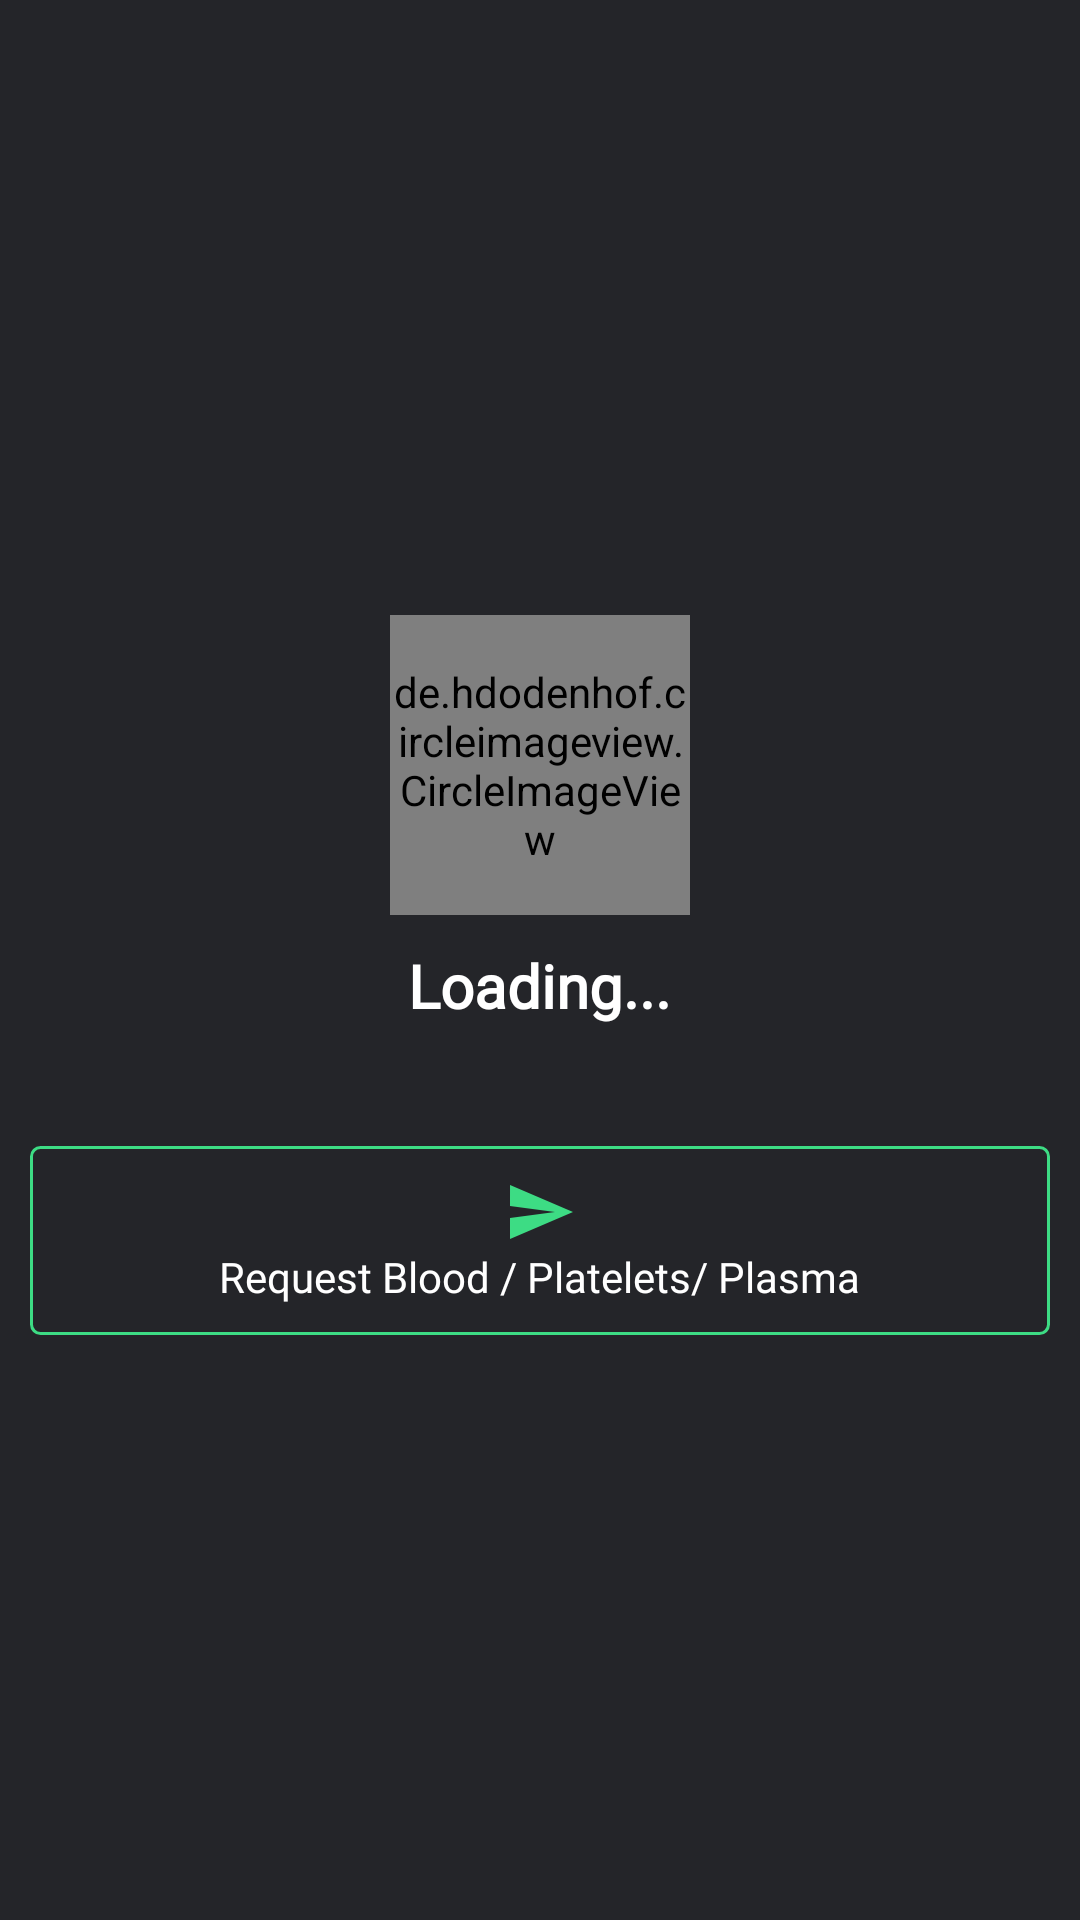

Where icons sit on this 1080px×1920px app screen, as rect(x1, y1, x2, y2):
send msg: rect(510, 1185, 573, 1239)
